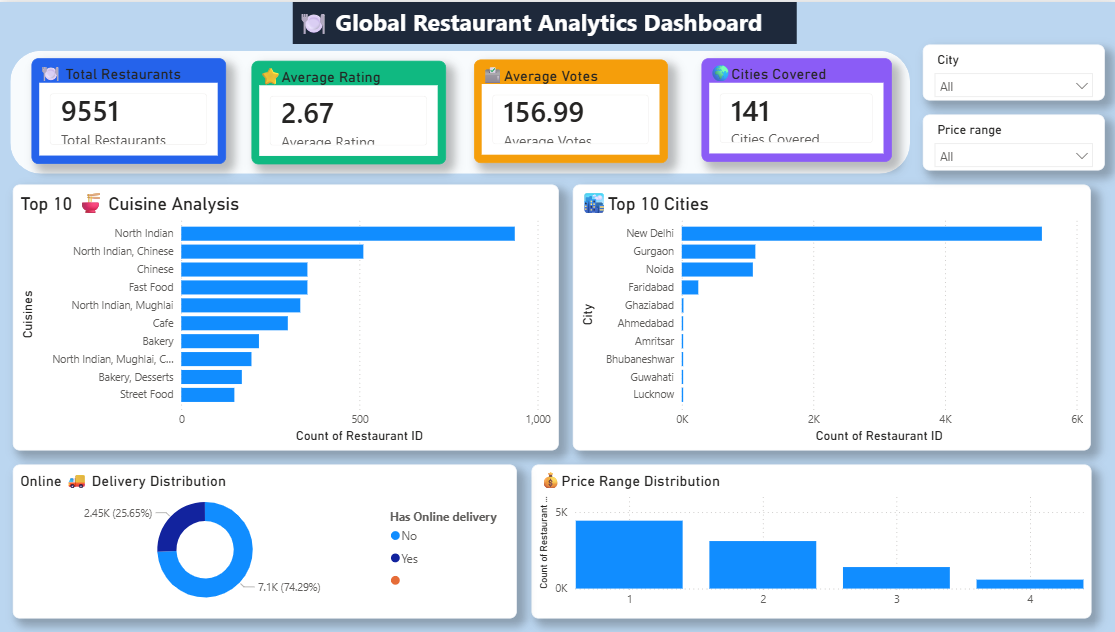

This screenshot's page, from the dashboard's own definition file:
{"tool":"powerbi","page":{"name":"Page 1","canvas":[1280,720],"ordinal":0},"visuals":[{"type":"shape","box":[13.5,55,1028.4,140.6],"z":0},{"type":"cardVisual","title":"🍽️ Total Restaurants","fields":{"Data":["Count(Dataset.Restaurant ID)"]},"box":[36.7,64.8,222.6,121.1],"z":1000},{"type":"cardVisual","title":"⭐Average Rating","fields":{"Data":["Avg(Dataset.Aggregate rating)"]},"box":[288.6,67.3,222.6,118.6],"z":2000},{"type":"cardVisual","title":" 🗳️Average Votes","fields":{"Data":["Avg(Dataset.Votes)"]},"box":[542.9,66,221.3,118.6],"z":3000},{"type":"cardVisual","title":"🌍Cities Covered","fields":{"Data":["Count(Dataset.City)"]},"box":[803.4,64.8,217.7,118.6],"z":4000},{"type":"clusteredBarChart","title":"Top 10 🍜 Cuisine Analysis","fields":{"Category":["Dataset.Cuisines"],"Y":["CountNonNull(Dataset.Restaurant ID)"]},"box":[16,208,624,304],"z":5000},{"type":"clusteredBarChart","title":"🏙️Top 10 Cities","fields":{"Category":["Dataset.City"],"Y":["CountNonNull(Dataset.Restaurant ID)"]},"box":[656,208,592,304],"z":6000},{"type":"clusteredColumnChart","title":"💰Price Range Distribution","fields":{"Category":["Dataset.Price range"],"Y":["CountNonNull(Dataset.Restaurant ID)"]},"box":[608,528,640,176],"z":7000},{"type":"donutChart","title":"Online 🚚 Delivery Distribution","fields":{"Category":["Dataset.Has Online delivery"],"Y":["CountNonNull(Dataset.Restaurant ID)"]},"box":[16,528,576,176],"z":8000},{"type":"slicer","fields":{"Values":["Dataset.City"]},"box":[1056,48,208,64],"z":9000},{"type":"slicer","fields":{"Values":["Dataset.Price range"]},"box":[1056,128,208,64],"z":10000},{"type":"textbox","box":[336,0,576,48],"z":11000}]}

Visuals, with their boxes in screenshot pixels (x1, y1, x2, y2), scaled from the page's 1280x720 canvas onto the 1115x632 screenshot:
shape: (12, 48, 908, 172)
"🍽️ Total Restaurants" cardVisual: (32, 57, 226, 163)
"⭐Average Rating" cardVisual: (251, 59, 445, 163)
" 🗳️Average Votes" cardVisual: (473, 58, 666, 162)
"🌍Cities Covered" cardVisual: (700, 57, 889, 161)
"Top 10 🍜 Cuisine Analysis" clusteredBarChart: (14, 183, 558, 449)
"🏙️Top 10 Cities" clusteredBarChart: (571, 183, 1087, 449)
"💰Price Range Distribution" clusteredColumnChart: (530, 463, 1087, 618)
"Online 🚚 Delivery Distribution" donutChart: (14, 463, 516, 618)
slicer - Dataset.City: (920, 42, 1101, 98)
slicer - Dataset.Price range: (920, 112, 1101, 169)
textbox: (293, 0, 794, 42)
